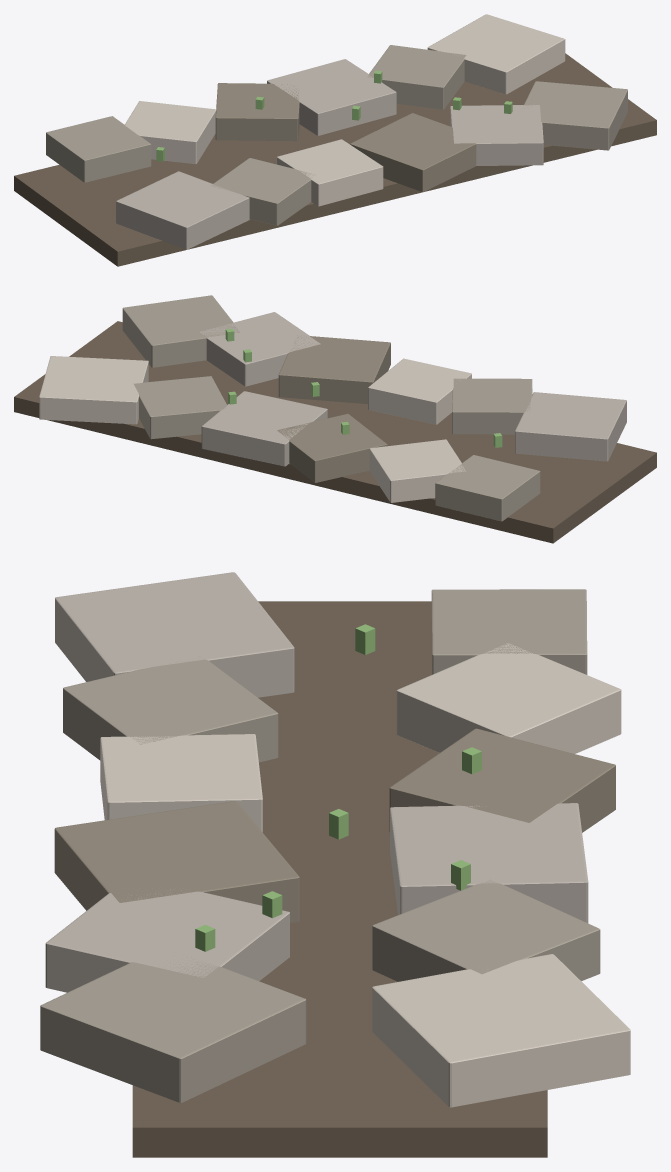
File: cobble_path.glb
3 renders of one model, top to bottom at view 1: azimuth 30°, elevation 25°; view 2: azimuth 150°, elevation 25°; view 3: azimuth 270°, elevation 25°, orthographic. The views are drawn at different scales.
Parts seen in each view (by area): view 1: cobble_path; view 2: cobble_path; view 3: cobble_path.
Part boxes in pixels (bbox=[...]): cobble_path: bbox=[14, 14, 656, 266]; cobble_path: bbox=[14, 295, 656, 543]; cobble_path: bbox=[40, 572, 630, 1157].
Bounding box in the file's own units: 1.5 × 0.135 × 0.7111.
